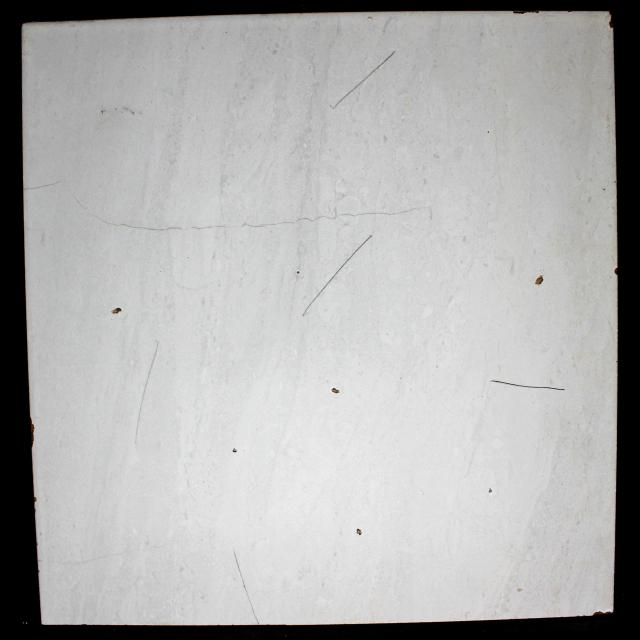edge-chipping: (30, 417, 34, 448), (513, 10, 540, 14), (592, 611, 613, 616), (608, 11, 614, 28), (614, 268, 618, 275), (34, 496, 37, 503), (567, 10, 573, 12), (34, 508, 36, 513), (38, 569, 40, 573), (36, 542, 38, 546)
hole: (535, 275, 544, 285), (112, 307, 122, 314), (332, 388, 339, 393), (357, 528, 362, 535), (296, 270, 300, 274), (232, 448, 236, 452), (489, 488, 492, 493)
line: (303, 235, 372, 316), (332, 50, 396, 109), (71, 193, 151, 230), (293, 206, 430, 224), (135, 341, 158, 445), (233, 549, 259, 625), (152, 222, 292, 231), (77, 550, 134, 563), (490, 380, 564, 390), (24, 179, 65, 190)
